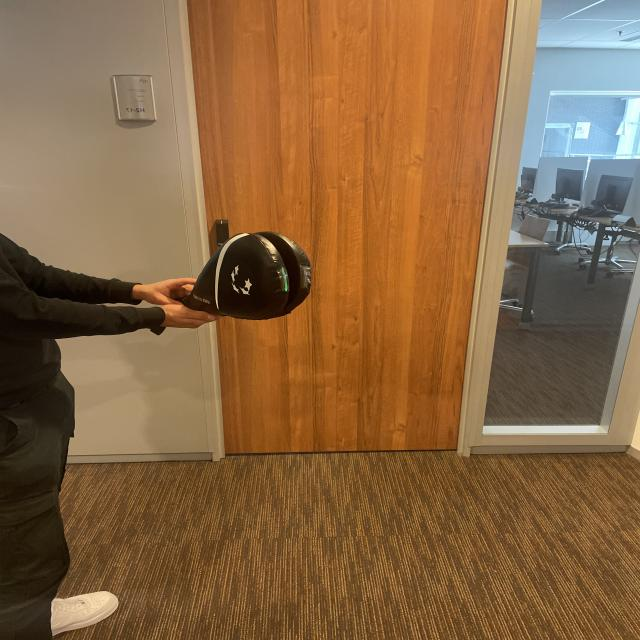paddle: (192, 227, 309, 319)
trigger: (277, 264, 291, 296)
